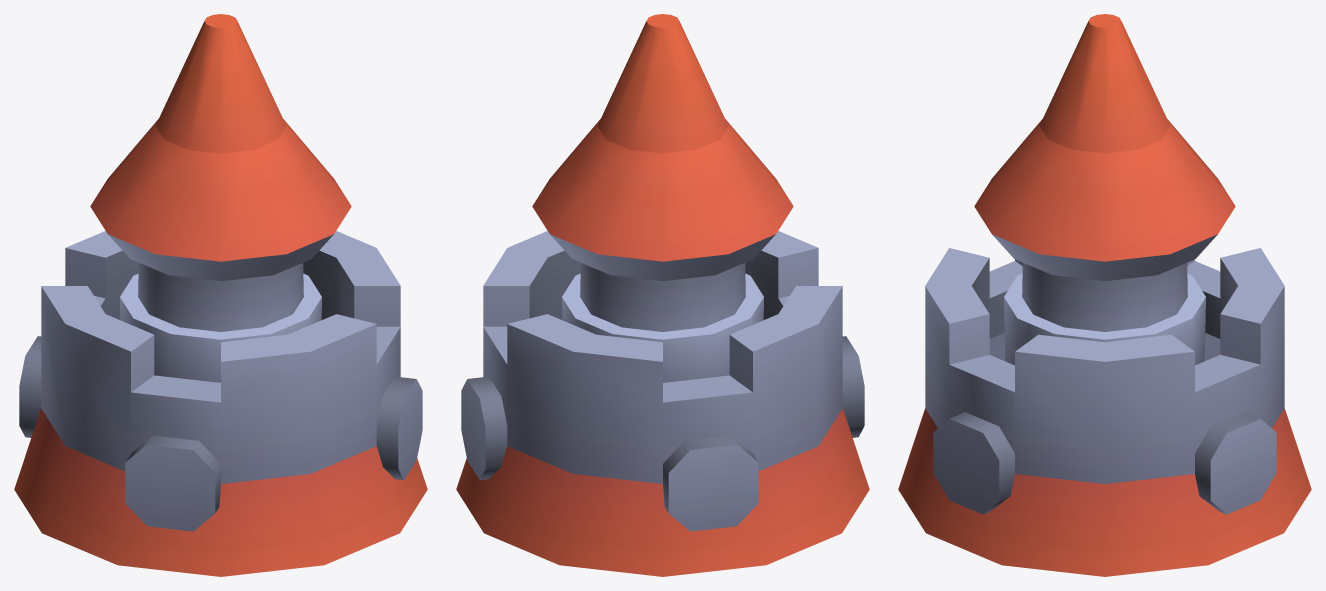
File: kenney-tower-defense-tower-round-roof-a.glb
The picture shows the model from 3 angles, left to right: view 1: azimuth 30°, elevation 25°; view 2: azimuth 150°, elevation 25°; view 3: azimuth 270°, elevation 25°; orthographic projection.
Parts seen in each view (by area): view 1: tower-round-roof-a; view 2: tower-round-roof-a; view 3: tower-round-roof-a.
Part boxes in pixels (box(x1,y1,x2,y2)): tower-round-roof-a: box(14, 14, 427, 576); tower-round-roof-a: box(456, 14, 869, 576); tower-round-roof-a: box(898, 14, 1311, 576).
Size of the model in its own units: 0.9201 by 1.15 by 0.9201.
Materials: 1 (1 with a texture image).
